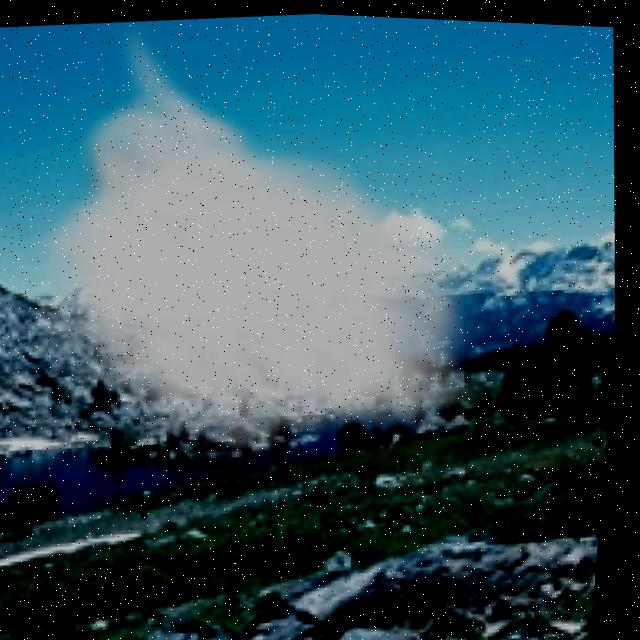Smoke: (23, 11, 511, 475)
